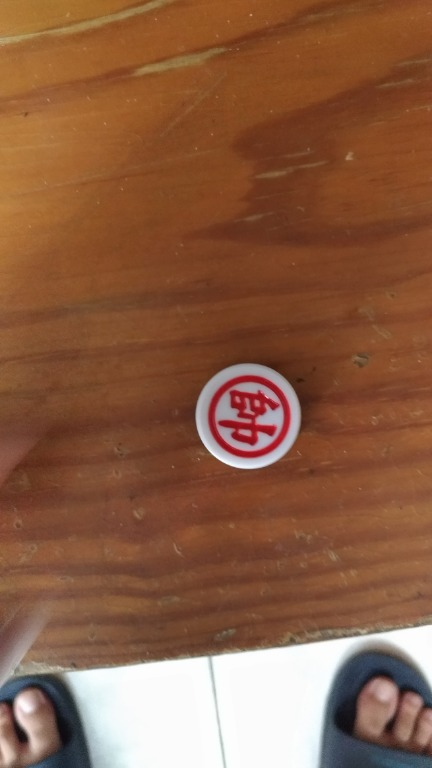r-king: (185, 354, 310, 475)
